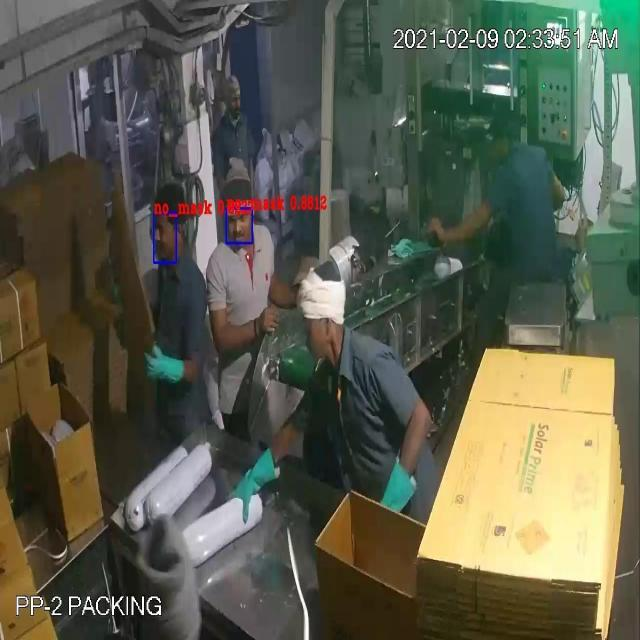No_Gloves: (49, 50, 458, 488)
